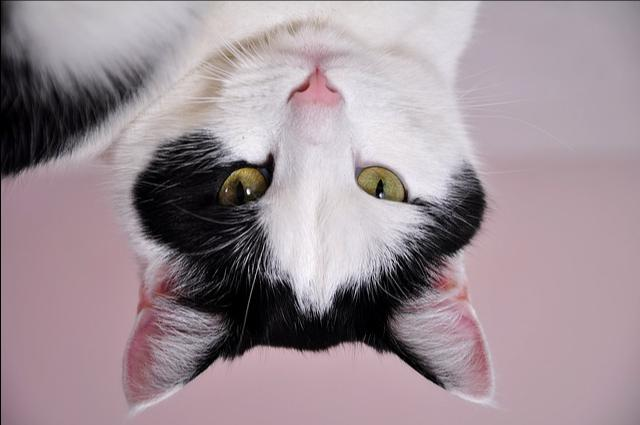cat: (2, 2, 513, 416)
